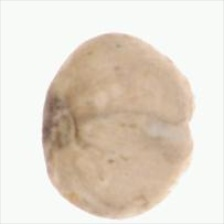L3: (178, 83, 196, 163)
L4: (41, 32, 195, 219)
